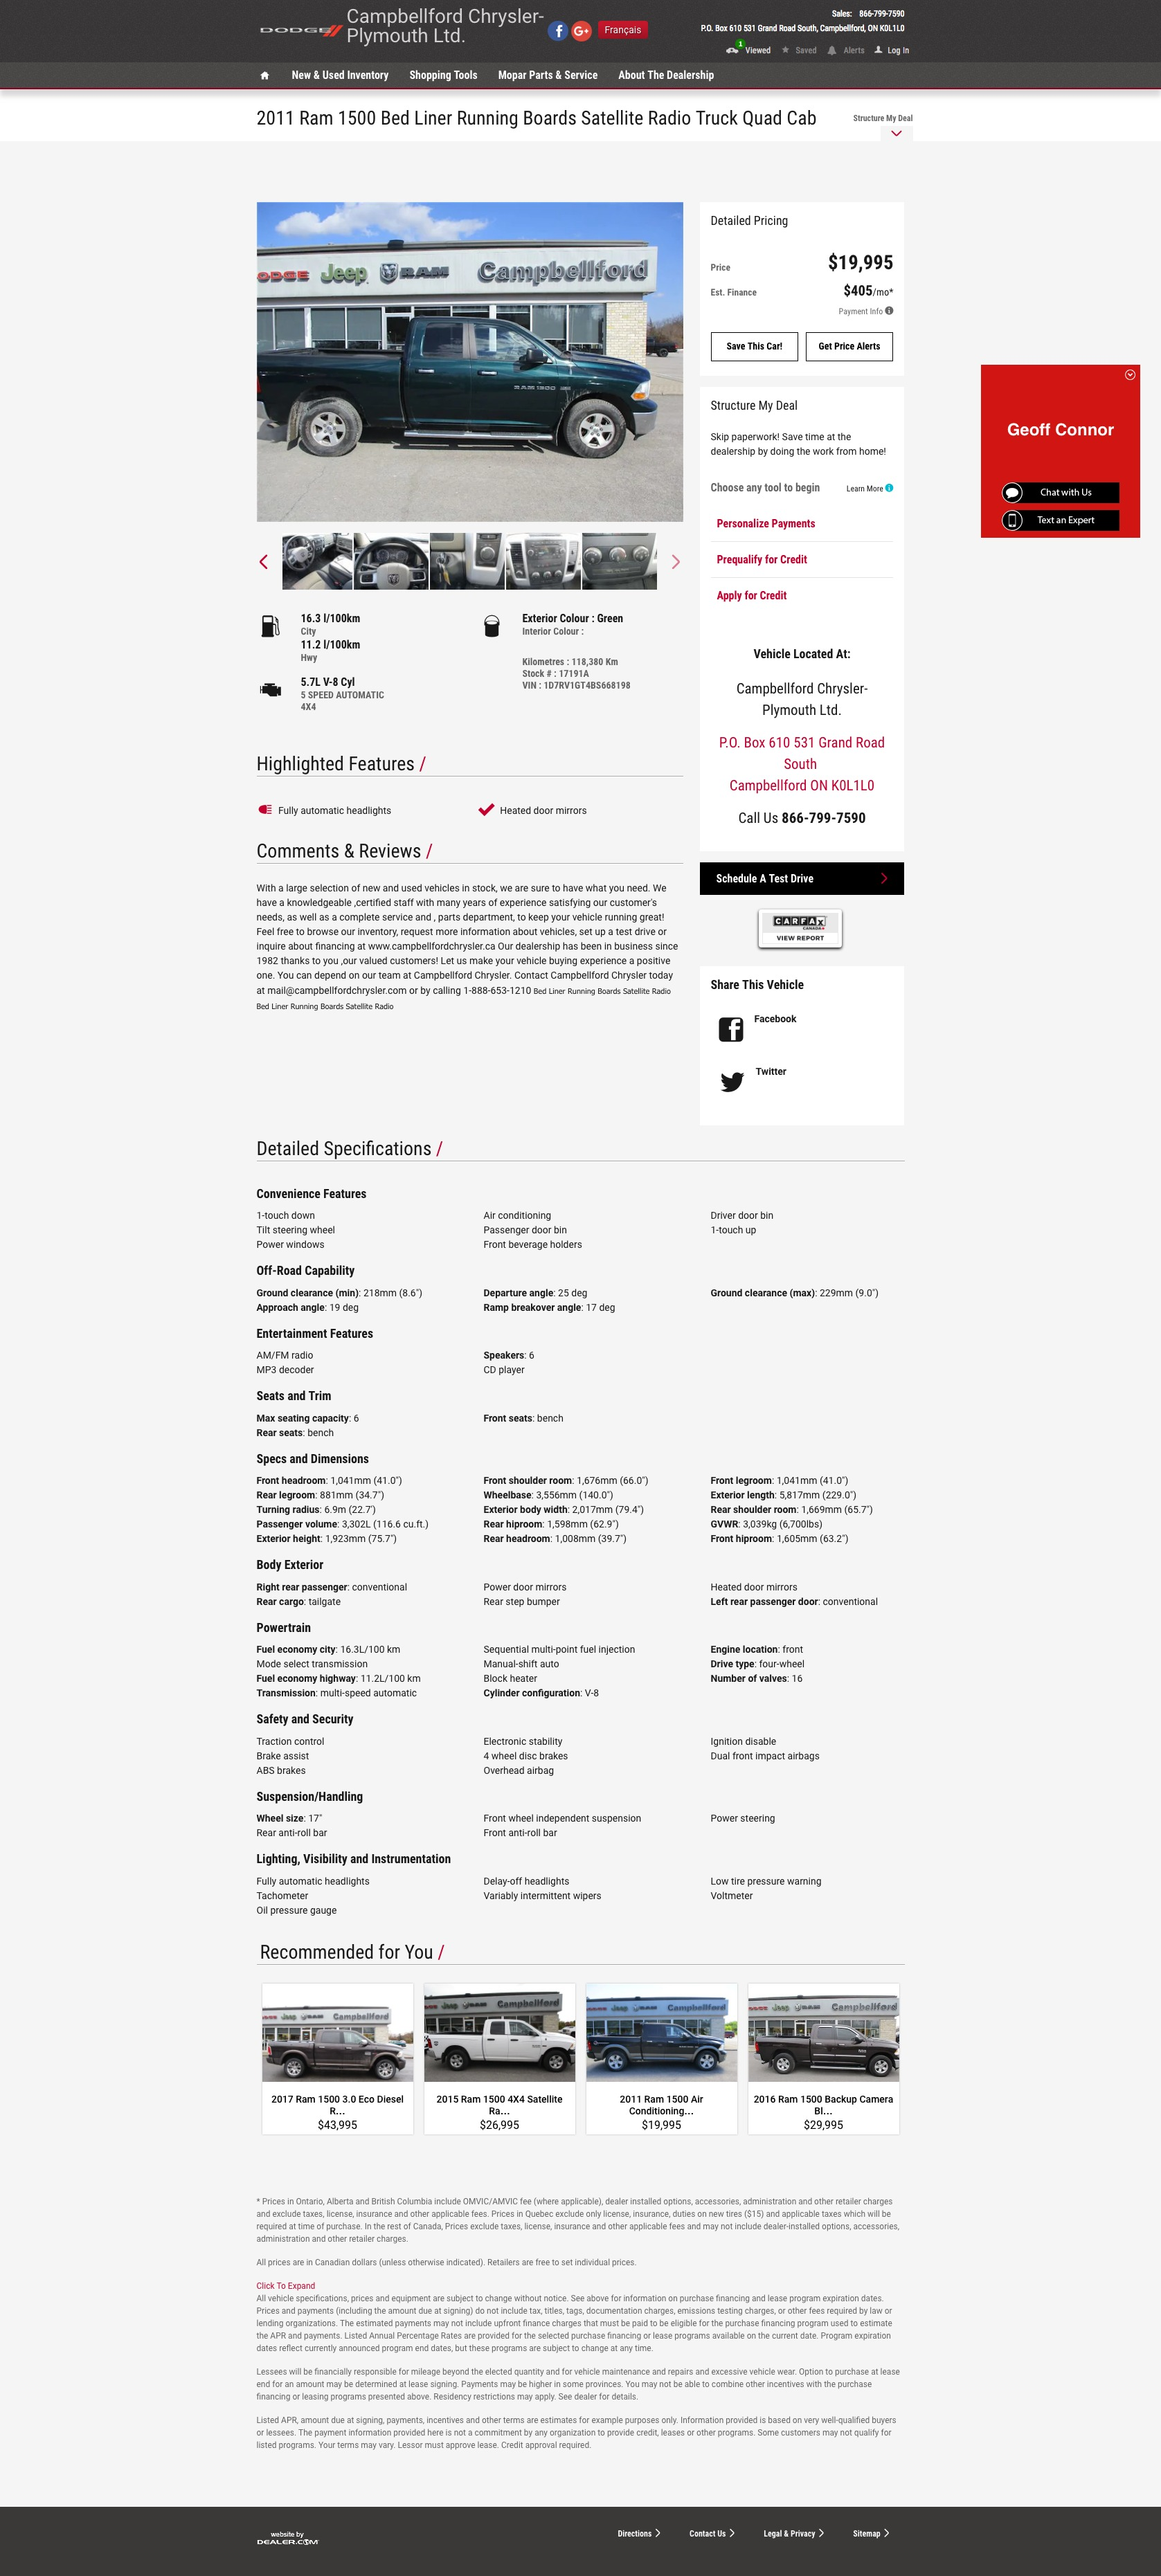car: (671, 555, 682, 570)
